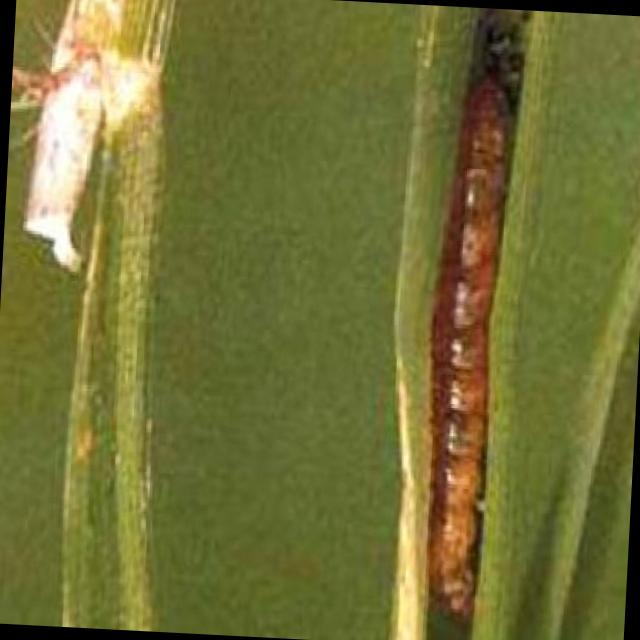leaf-folder: (366, 64, 547, 614)
